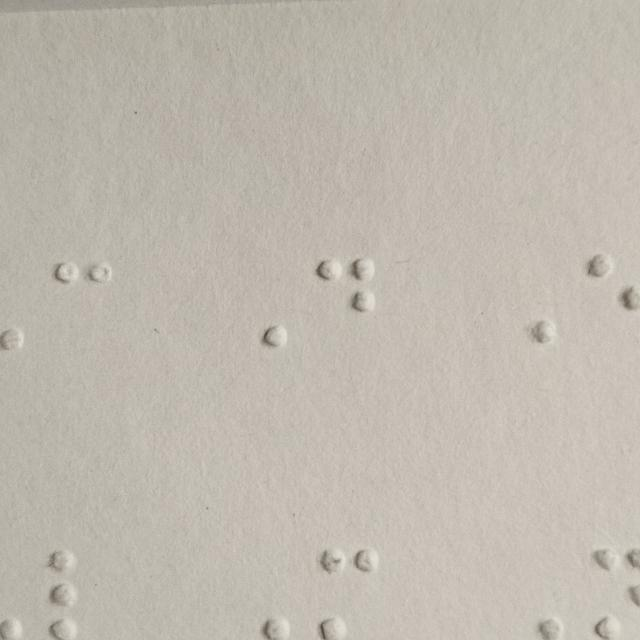D: (317, 257, 374, 349)
E: (584, 255, 640, 346)
M: (321, 548, 377, 640)
capital: (235, 548, 292, 640), (235, 258, 291, 350), (500, 255, 556, 346)
